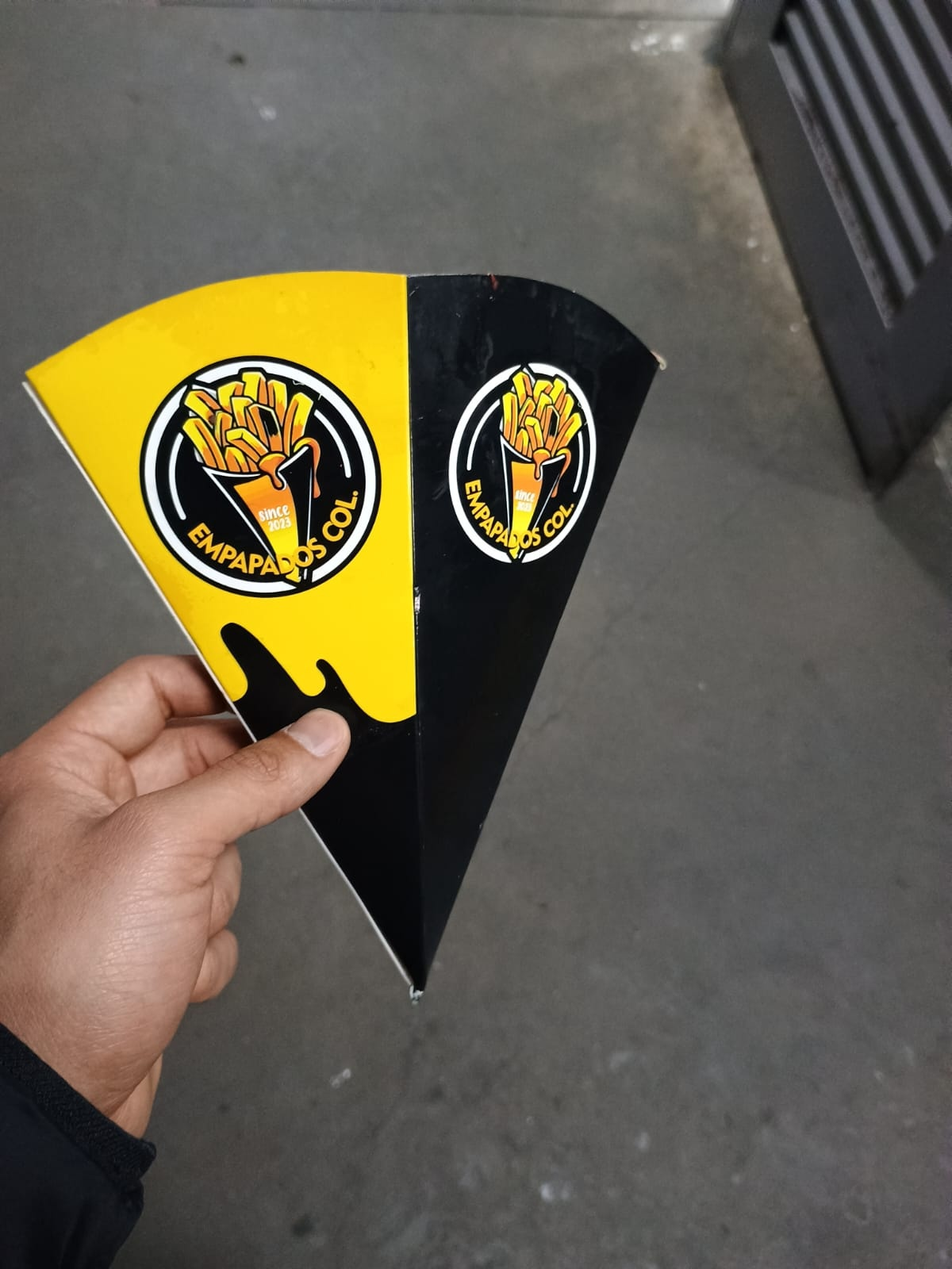Carton: (23, 273, 666, 1004)
